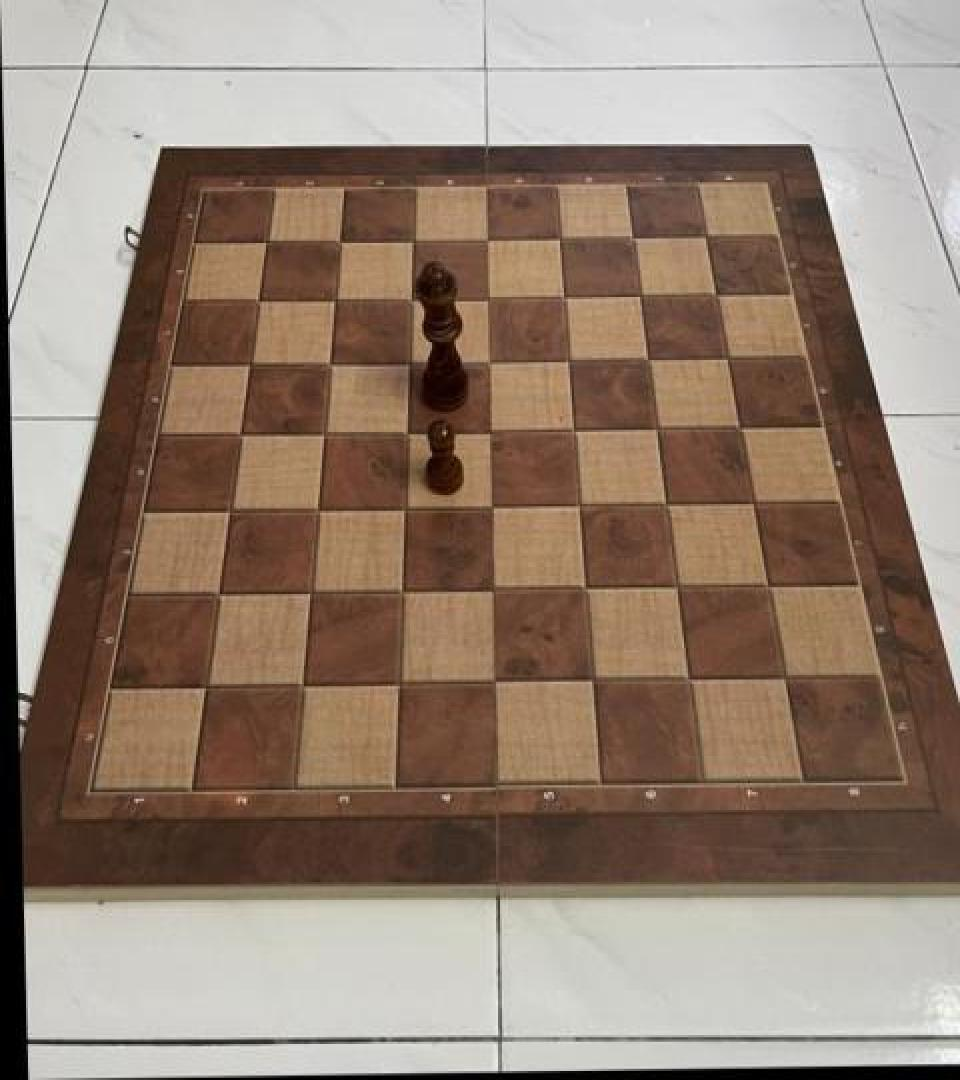xcorner: (614, 219, 648, 258), (476, 661, 510, 700), (381, 661, 415, 700), (688, 218, 722, 256), (541, 220, 575, 258), (468, 222, 502, 260), (395, 223, 429, 261), (322, 224, 356, 262), (250, 225, 284, 263), (698, 277, 732, 315), (621, 278, 655, 316), (545, 279, 579, 317), (469, 280, 503, 318), (393, 280, 427, 318), (318, 282, 352, 320), (242, 282, 276, 320), (709, 340, 743, 378), (629, 341, 663, 379), (550, 342, 584, 380), (470, 343, 504, 381), (391, 343, 425, 381), (312, 344, 346, 382), (234, 346, 268, 384), (721, 410, 755, 448), (638, 410, 672, 448), (554, 411, 588, 449), (472, 412, 506, 450), (389, 413, 423, 451), (306, 413, 340, 451), (224, 414, 258, 452), (735, 485, 769, 523), (647, 486, 681, 524), (560, 486, 594, 524), (473, 487, 507, 525), (386, 488, 420, 526), (300, 488, 334, 526), (214, 490, 248, 528), (749, 568, 783, 606), (657, 568, 691, 606), (566, 570, 600, 608), (474, 570, 508, 608), (384, 570, 418, 608), (293, 572, 327, 610), (203, 572, 237, 610), (765, 660, 799, 698), (669, 660, 703, 698), (572, 660, 606, 698), (285, 663, 319, 701), (191, 663, 225, 701)
